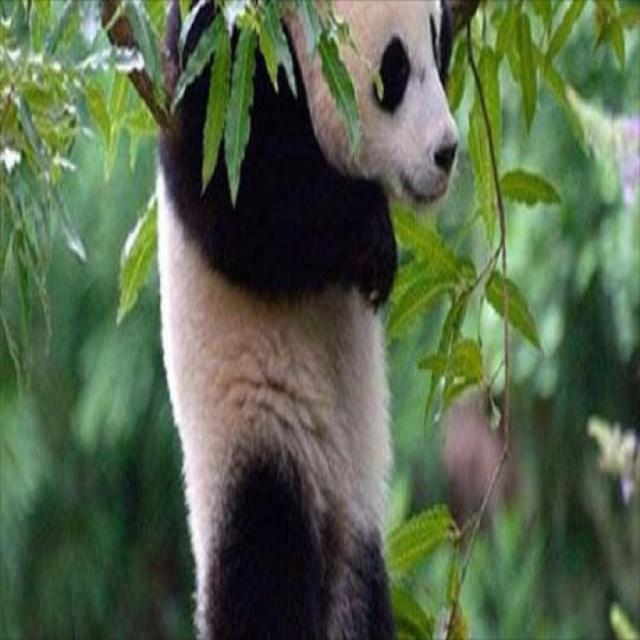panda: (159, 0, 461, 638)
